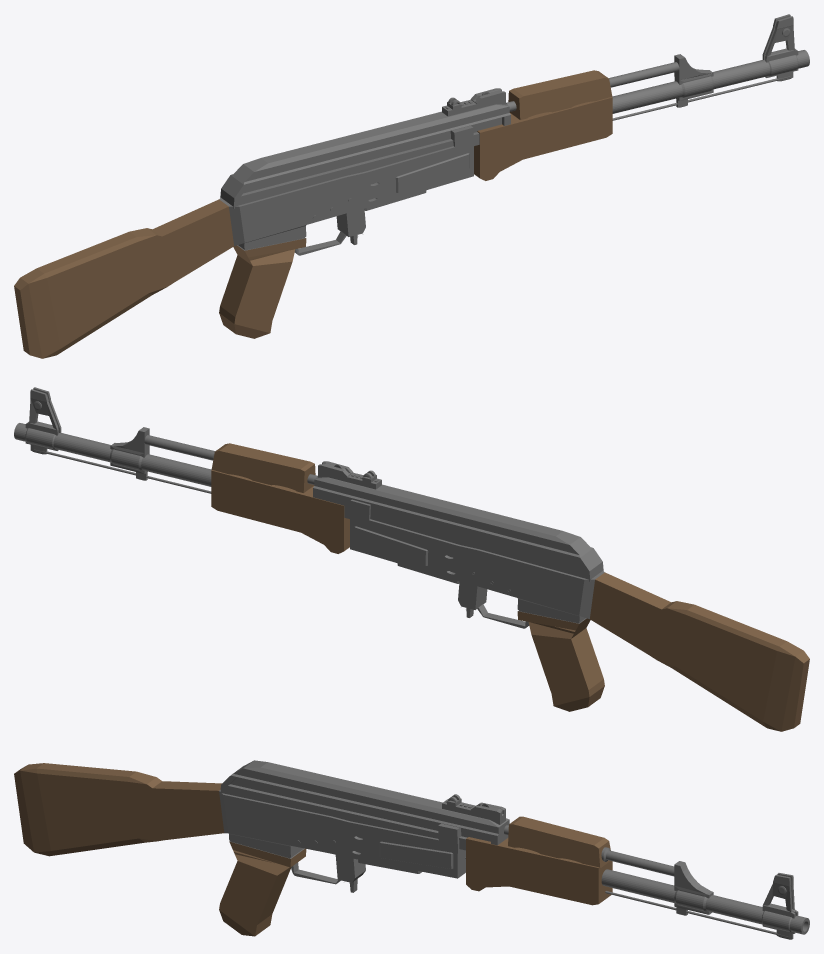
The model's file is AK47-gun.glb.
3 views of the same model, one above another, from view 1: azimuth 30°, elevation 25°; view 2: azimuth 150°, elevation 25°; view 3: azimuth 330°, elevation 25° (orthographic).
Parts seen in each view (by area): view 1: AKBody; view 2: AKBody; view 3: AKBody.
Boxes of the visible parts, box(x1,y1,x2,y2) form: AKBody: box(14, 14, 809, 358); AKBody: box(14, 387, 809, 731); AKBody: box(14, 760, 809, 939).
Size of the model in its own units: 9.47 by 2.14 by 0.3738.
